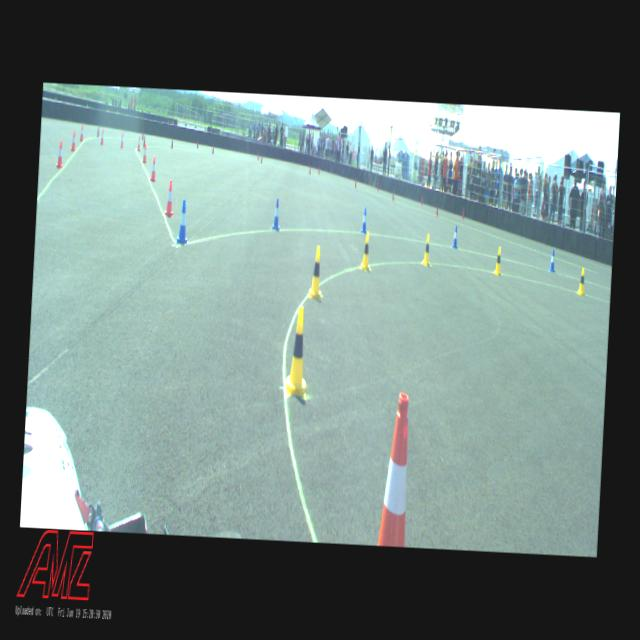blue_cone: (177, 199, 190, 244), (272, 198, 282, 230), (360, 208, 368, 234), (549, 249, 556, 272), (452, 226, 458, 250)
large_orange_cone: (377, 392, 413, 548)
orange_cone: (164, 180, 174, 217), (56, 140, 64, 168), (150, 156, 157, 182), (70, 130, 77, 152), (142, 144, 148, 164), (136, 136, 142, 152), (100, 129, 105, 145), (80, 125, 84, 142), (120, 132, 124, 148)
unknown_cone: (96, 125, 100, 138), (308, 165, 312, 176), (143, 135, 146, 148), (170, 138, 173, 149), (421, 196, 424, 207), (392, 190, 394, 202), (436, 205, 438, 217), (462, 208, 464, 220), (142, 130, 144, 140), (196, 139, 198, 149), (212, 145, 214, 155), (354, 178, 356, 188), (258, 152, 260, 161), (261, 155, 263, 164), (318, 166, 320, 175), (377, 183, 379, 192)
yellow_cone: (285, 306, 311, 397), (308, 244, 324, 298), (359, 232, 372, 271), (422, 234, 434, 266), (494, 247, 502, 276), (578, 268, 586, 296)
